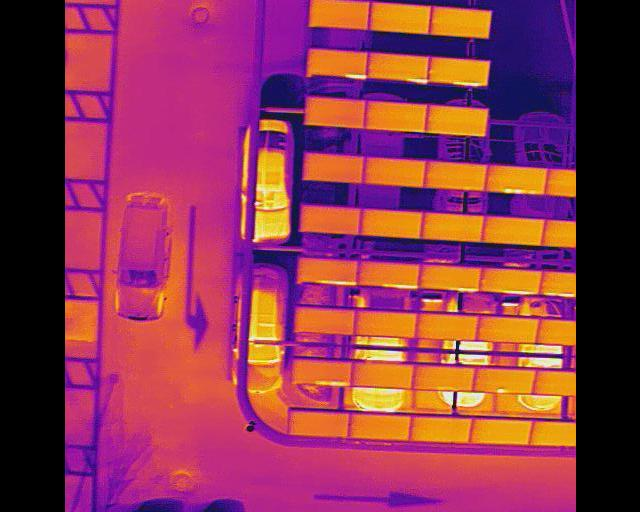Cell: (472, 369, 534, 394)
No-Anomaly: (368, 3, 430, 34), (307, 0, 369, 30), (304, 97, 364, 128), (362, 157, 423, 187), (365, 102, 426, 131), (423, 162, 486, 190), (347, 413, 410, 441), (427, 106, 485, 136), (303, 153, 362, 182), (429, 9, 488, 37), (480, 219, 545, 244), (299, 206, 359, 233), (354, 311, 416, 337), (294, 308, 353, 335), (414, 315, 477, 340), (350, 363, 413, 388), (476, 318, 538, 343), (420, 216, 483, 240), (411, 367, 474, 391), (359, 212, 422, 236), (287, 412, 349, 436), (470, 420, 531, 444), (408, 418, 469, 441)
Unclassified: (367, 53, 428, 83), (307, 49, 367, 79), (484, 165, 545, 194), (428, 58, 488, 86), (292, 359, 351, 386), (358, 263, 419, 289), (419, 267, 479, 293), (297, 260, 357, 285), (479, 270, 539, 294)
